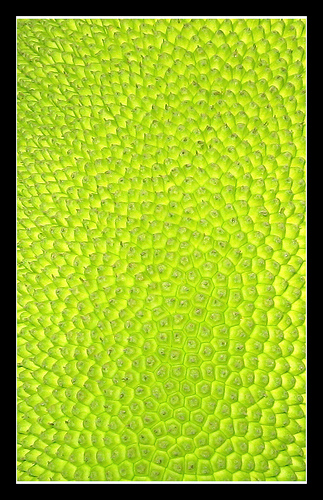jackfruit: (17, 17, 306, 485)
